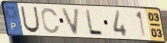1: (135, 9, 147, 40)
4: (112, 9, 129, 38)
C: (40, 7, 61, 35)
L: (84, 8, 104, 37)
U: (19, 6, 41, 34)
V: (60, 7, 82, 36)
